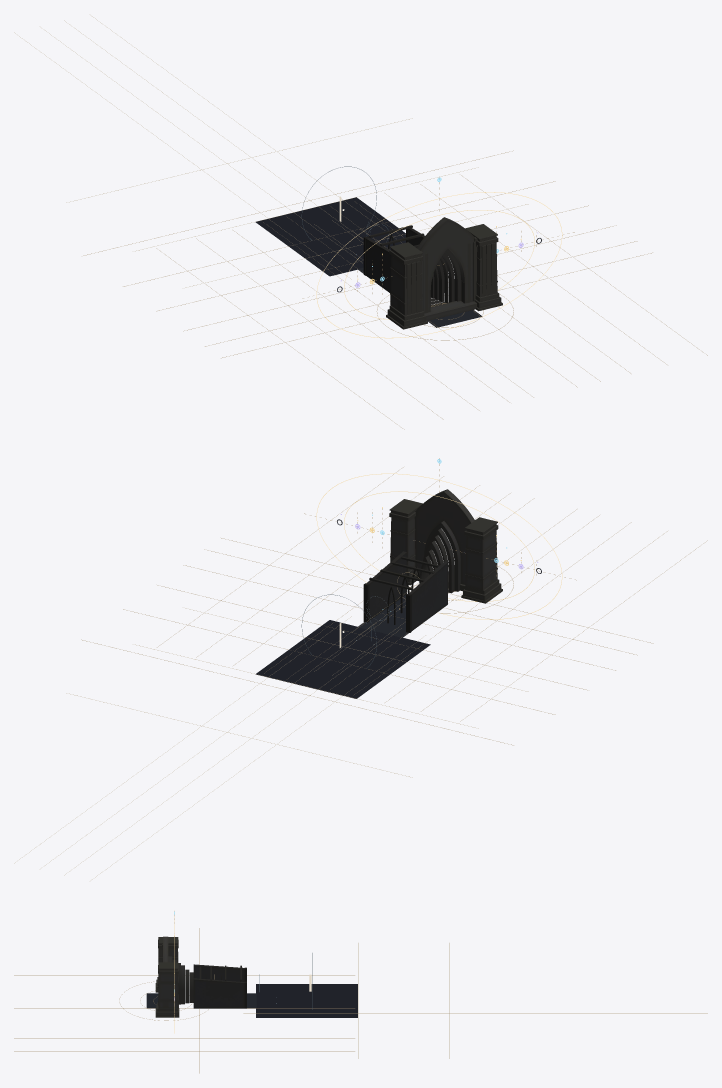
Rendered from tahamohammadi-portal-v1.4.glb.
3 renders of one model, top to bottom at view 1: azimuth 30°, elevation 25°; view 2: azimuth 150°, elevation 25°; view 3: azimuth 270°, elevation 25°, orthographic. The views are drawn at different scales.
Visible parts, largest first — view 1: Arch_StoneMain, HM_Passage_FloorDeep, Floor_Lines_Major, Passage_Stone, Arch_StoneInner, Floor_Lines_Deep; view 2: HM_Passage_FloorDeep, Arch_StoneMain, Passage_Stone, Floor_Lines_Major, Arch_StoneInner, Floor_Lines_Deep, Passage_Floor; view 3: HM_Passage_FloorDeep, Passage_Stone, Arch_StoneMain, Floor_Lines_Major, Floor_Lines_Deep, Arch_StoneInner, Passage_Floor.
Part boxes in pixels (x1,y1,x2,y2): Arch_StoneMain: (386,217,502,329); HM_Passage_FloorDeep: (255,197,405,276); Floor_Lines_Major: (83,150,707,429); Passage_Stone: (366,225,447,292); Arch_StoneInner: (423,244,472,310); Floor_Lines_Deep: (14,16,528,287); HM_Passage_FloorDeep: (256,620,430,698); Arch_StoneMain: (389,489,502,603); Passage_Stone: (366,551,447,630); Floor_Lines_Major: (81,467,707,745); Arch_StoneInner: (420,521,460,593); Floor_Lines_Deep: (14,608,528,879); Passage_Floor: (358,571,448,637); HM_Passage_FloorDeep: (256,984,357,1017); Passage_Stone: (193,964,244,1008); Arch_StoneMain: (155,936,179,1017); Floor_Lines_Major: (14,928,354,1073); Floor_Lines_Deep: (243,943,707,1058); Arch_StoneInner: (168,956,193,1004); Passage_Floor: (146,993,256,1008).
Bounding box in the file's own units: 60 × 20.54 × 121.
19 materials, 6 textured.
